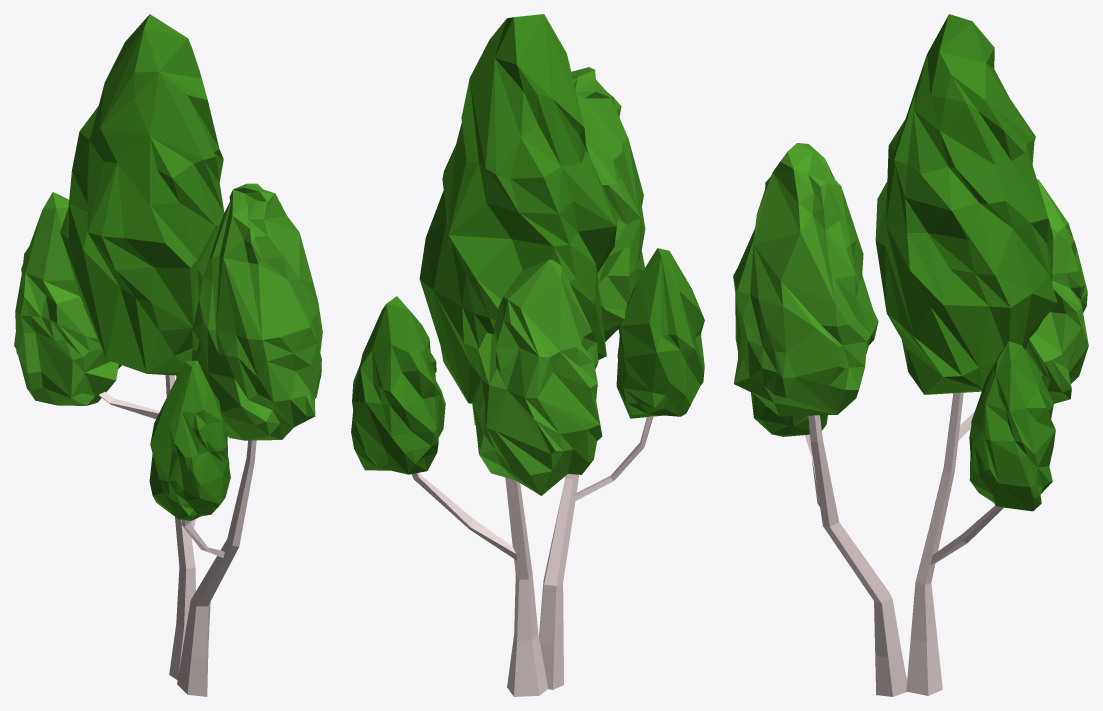
File: BirchTree_002.FBX
3 renders of one model, left to right at view 1: azimuth 30°, elevation 25°; view 2: azimuth 150°, elevation 25°; view 3: azimuth 270°, elevation 25°, orthographic. The views are drawn at different scales.
Visible parts, largest first — view 1: GeoSphere006, GeoSphere003, GeoSphere008, GeoSphere004, Trunk002, Trunk001, Cylinder003; view 2: GeoSphere006, GeoSphere008, GeoSphere005, GeoSphere004, GeoSphere003, Trunk001, Trunk002, Cylinder001, Cylinder002; view 3: GeoSphere006, GeoSphere003, GeoSphere005, GeoSphere008, Trunk002, Trunk001, GeoSphere004, Cylinder001.
Part boxes in pixels (x1,y1,x2,y2): GeoSphere006: (60, 14, 224, 375); GeoSphere003: (192, 183, 322, 440); GeoSphere008: (14, 192, 121, 405); GeoSphere004: (149, 360, 230, 520); Trunk002: (177, 440, 256, 696); Trunk001: (165, 375, 195, 679); Cylinder003: (99, 392, 159, 418); GeoSphere006: (419, 14, 617, 403); GeoSphere008: (471, 259, 602, 495); GeoSphere005: (351, 296, 445, 474); GeoSphere004: (616, 248, 704, 418); GeoSphere003: (571, 67, 645, 341); Trunk001: (505, 477, 548, 696); Trunk002: (539, 474, 578, 689); Cylinder001: (411, 473, 516, 560); Cylinder002: (570, 416, 653, 502); GeoSphere006: (875, 14, 1057, 394); GeoSphere003: (733, 143, 878, 416); GeoSphere005: (969, 341, 1055, 511); GeoSphere008: (1025, 179, 1088, 403); Trunk002: (808, 415, 906, 696); Trunk001: (906, 392, 963, 695); GeoSphere004: (751, 392, 827, 436); Cylinder001: (930, 505, 1003, 564).
Bounding box in the file's own units: 30.99 × 83.51 × 40.27.
